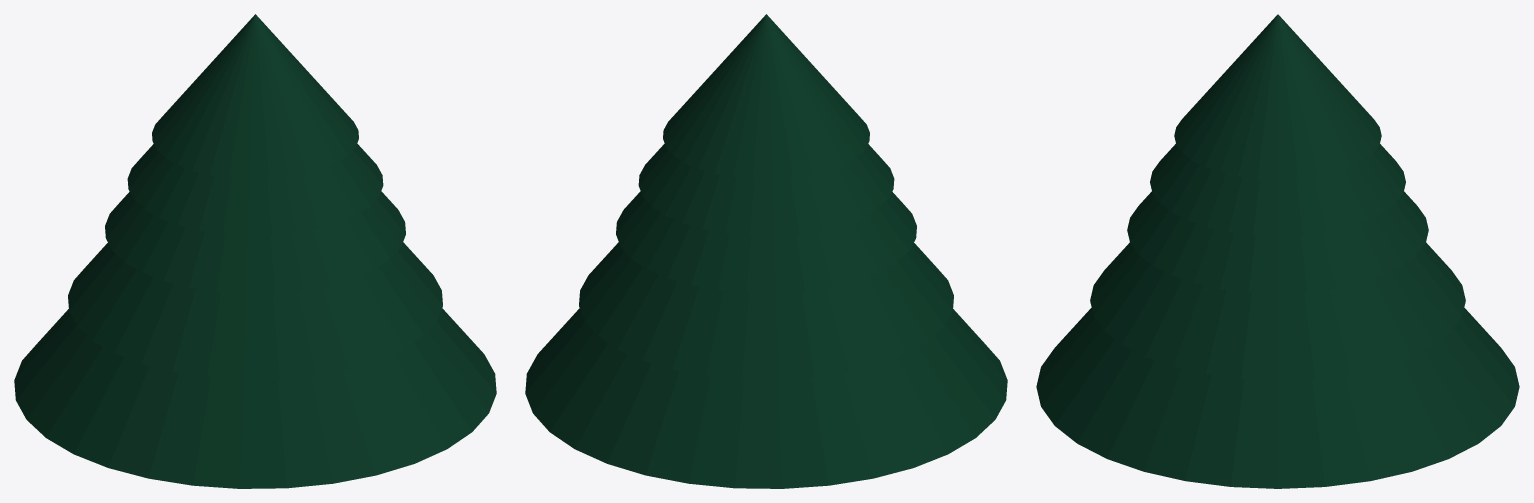
Rendered from Tree.fbx.
3 views of the same model, side by side, from view 1: azimuth 30°, elevation 25°; view 2: azimuth 150°, elevation 25°; view 3: azimuth 270°, elevation 25° (orthographic).
Parts seen in each view (by area): view 1: Tree; view 2: Tree; view 3: Tree.
Boxes of the visible parts, x1,y1,x2,y2 form: Tree: (14, 14, 496, 488); Tree: (525, 14, 1007, 488); Tree: (1036, 14, 1519, 488).
Bounding box in the file's own units: 466 × 396 × 466.
